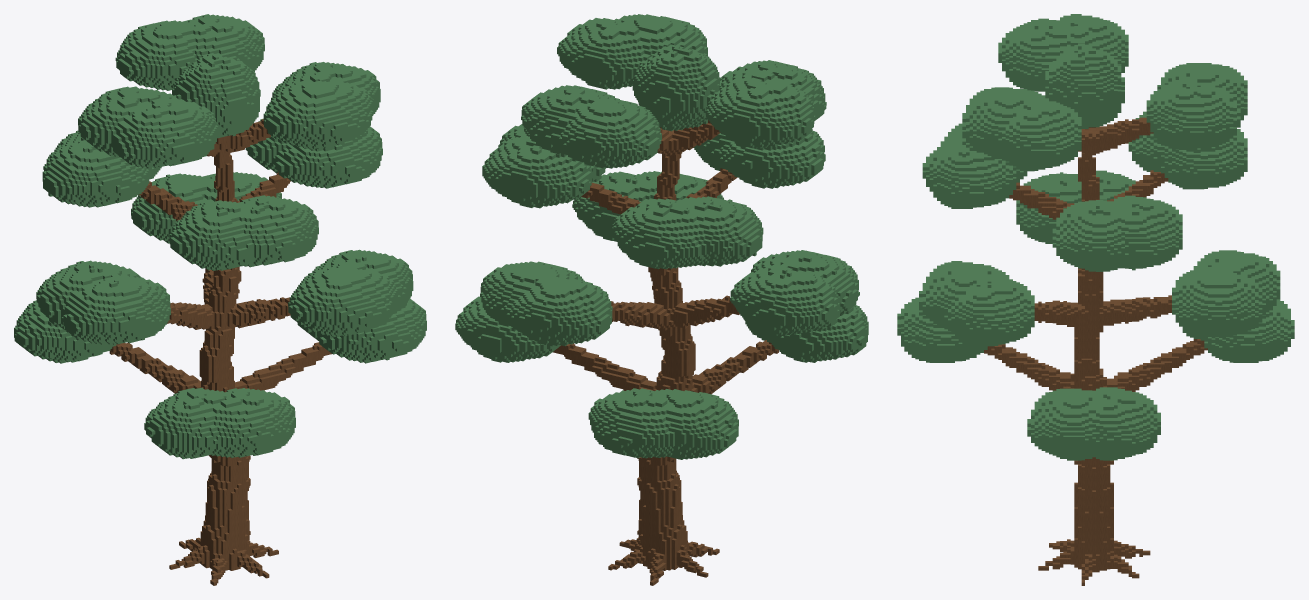
3 renders of one model, left to right at view 1: azimuth 30°, elevation 25°; view 2: azimuth 150°, elevation 25°; view 3: azimuth 270°, elevation 25°, orthographic.
Visible parts, largest first — view 1: 既有乔木色阶与高度族; view 2: 既有乔木色阶与高度族; view 3: 既有乔木色阶与高度族.
Part boxes in pixels (left/top/right/bottom): 既有乔木色阶与高度族: left=14, top=14, right=426, bottom=585; 既有乔木色阶与高度族: left=455, top=14, right=868, bottom=585; 既有乔木色阶与高度族: left=897, top=14, right=1294, bottom=585.
Size of the model in its own units: 23 by 31 by 22.
Materials: 3 (3 with a texture image).
